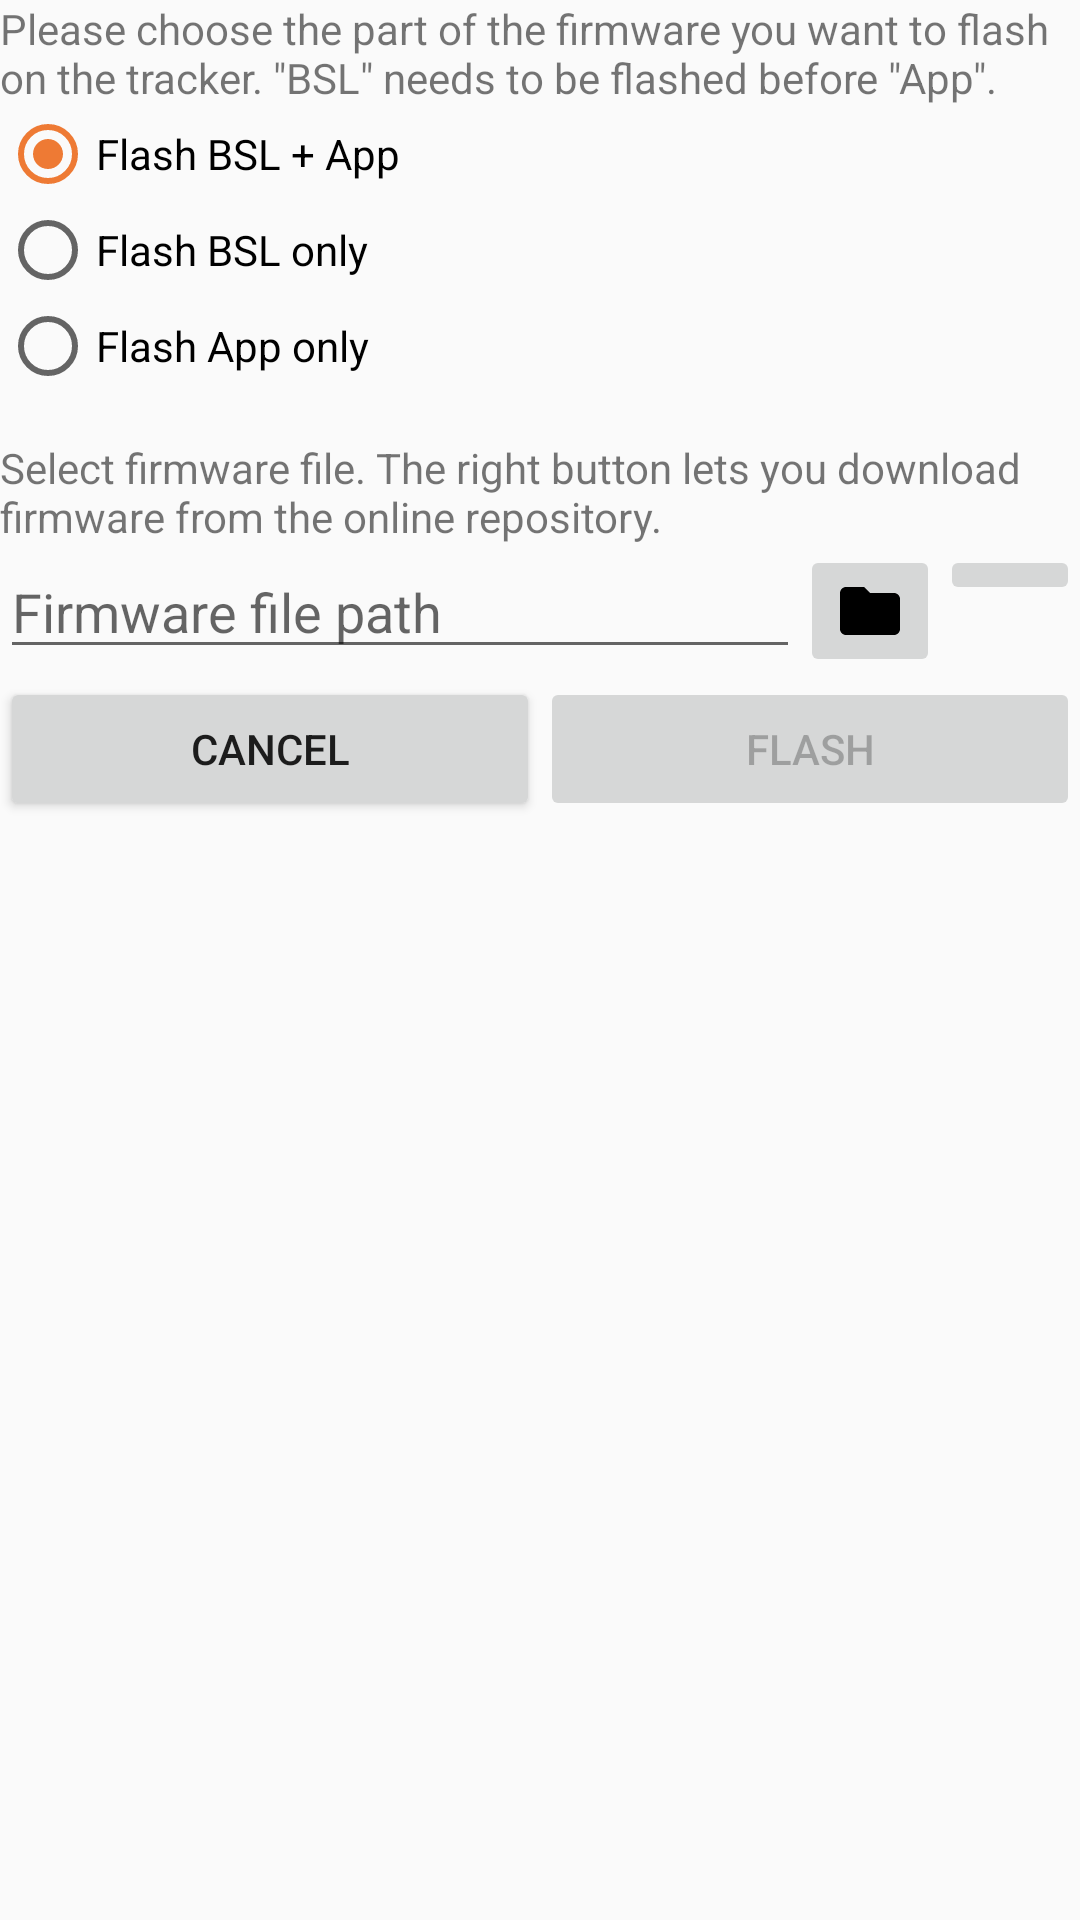

Locate icon controls on the screen. Image size 1080w x 1920h, boxes as (x1,y1,x2,y2).
folder: (812,563,928,659)
